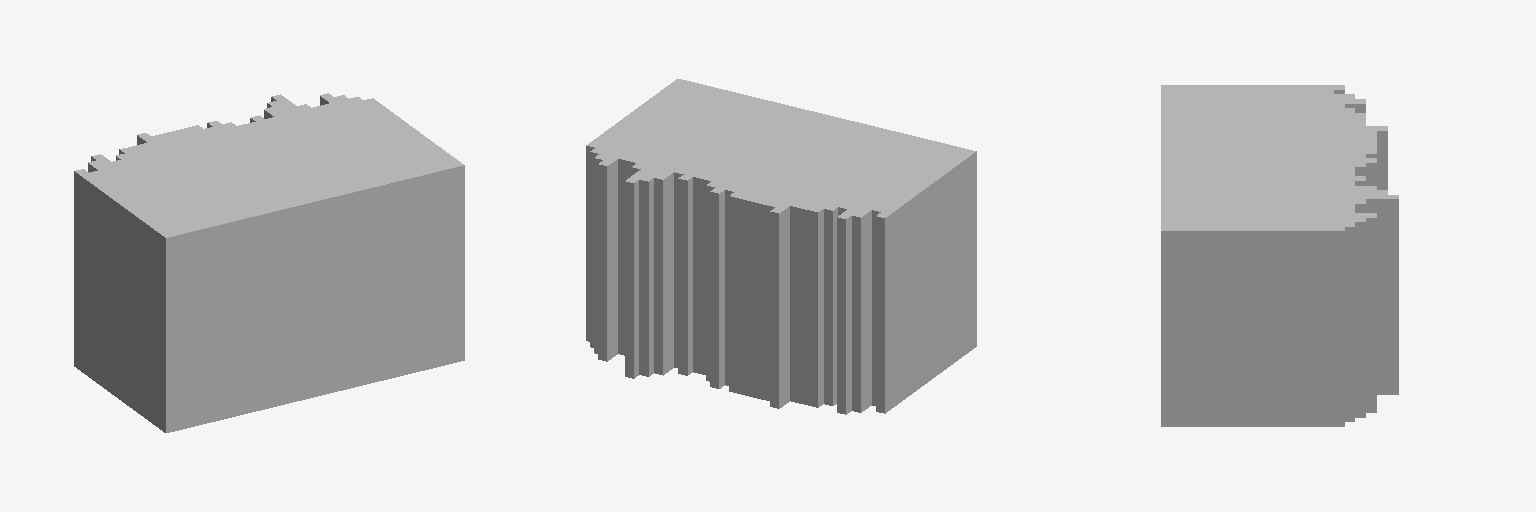
Rendered from pondtile-1.obj.
The picture shows the model from 3 angles: view 1: azimuth 30°, elevation 25°; view 2: azimuth 150°, elevation 25°; view 3: azimuth 270°, elevation 25°; orthographic projection.
Parts seen in each view (by area): view 1: pondtile-1; view 2: pondtile-1; view 3: pondtile-1.
Boxes of the visible parts, x1=… form: pondtile-1: x1=74, y1=93, x2=464, y2=432; pondtile-1: x1=586, y1=79, x2=976, y2=414; pondtile-1: x1=1161, y1=85, x2=1398, y2=426.
Size of the model in its own units: 3.2 by 2 by 2.2.